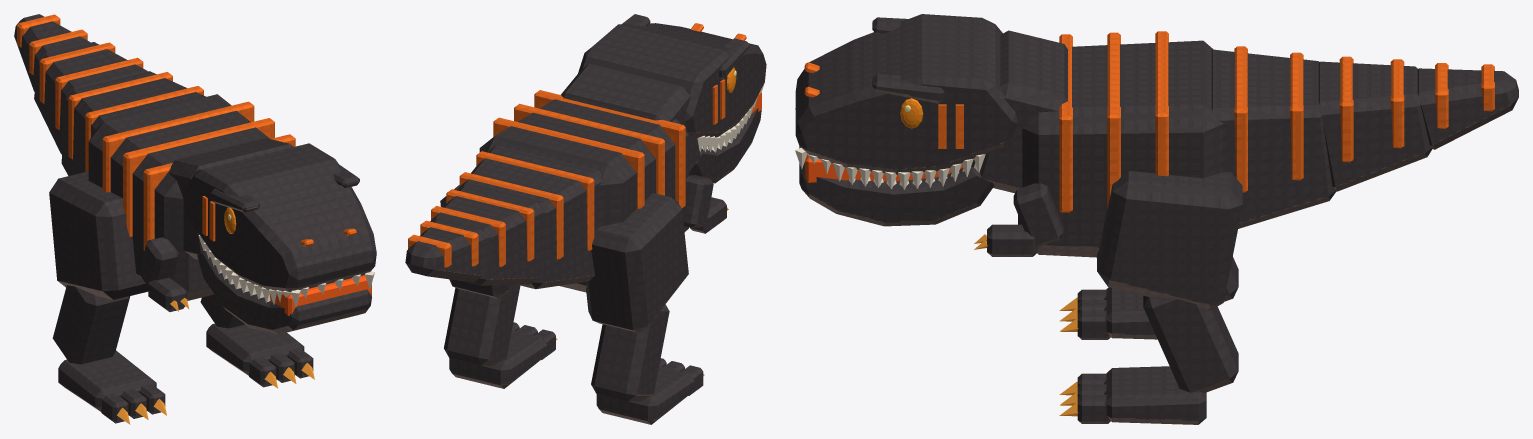
Rendered from trex_blocs_lave.glb.
3 views of the same model, side by side, from view 1: azimuth 30°, elevation 25°; view 2: azimuth 150°, elevation 25°; view 3: azimuth 270°, elevation 25° (orthographic). The views are drawn at different scales.
Visible parts, largest first — view 1: TRex; view 2: TRex; view 3: TRex.
Boxes of the visible parts, x1=… form: TRex: x1=14, y1=14, x2=376, y2=424; TRex: x1=405, y1=14, x2=766, y2=424; TRex: x1=795, y1=14, x2=1518, y2=424.
Size of the model in its own units: 4.1 by 5.22 by 10.55.
1 material, 1 textured.
